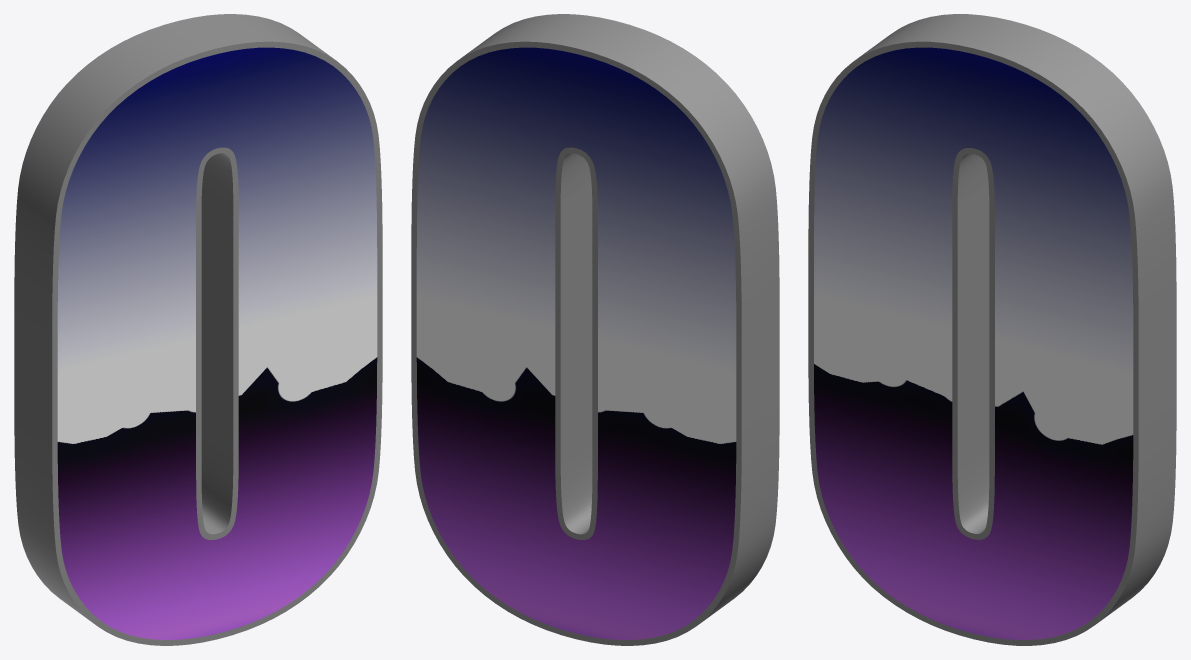
The picture shows the model from 3 angles, left to right: view 1: azimuth 30°, elevation 25°; view 2: azimuth 150°, elevation 25°; view 3: azimuth 330°, elevation 25°; orthographic projection.
Visible parts, largest first — view 1: O, O_outline; view 2: O, O_outline; view 3: O, O_outline.
Boxes of the visible parts, bbox=[...] form: O: bbox=[57, 47, 377, 639]; O_outline: bbox=[14, 14, 382, 645]; O: bbox=[416, 47, 736, 639]; O_outline: bbox=[411, 14, 779, 645]; O: bbox=[814, 47, 1133, 639]; O_outline: bbox=[808, 14, 1176, 645].
Size of the model in its own units: 60.5 by 103 by 12.
2 materials, 1 textured.
